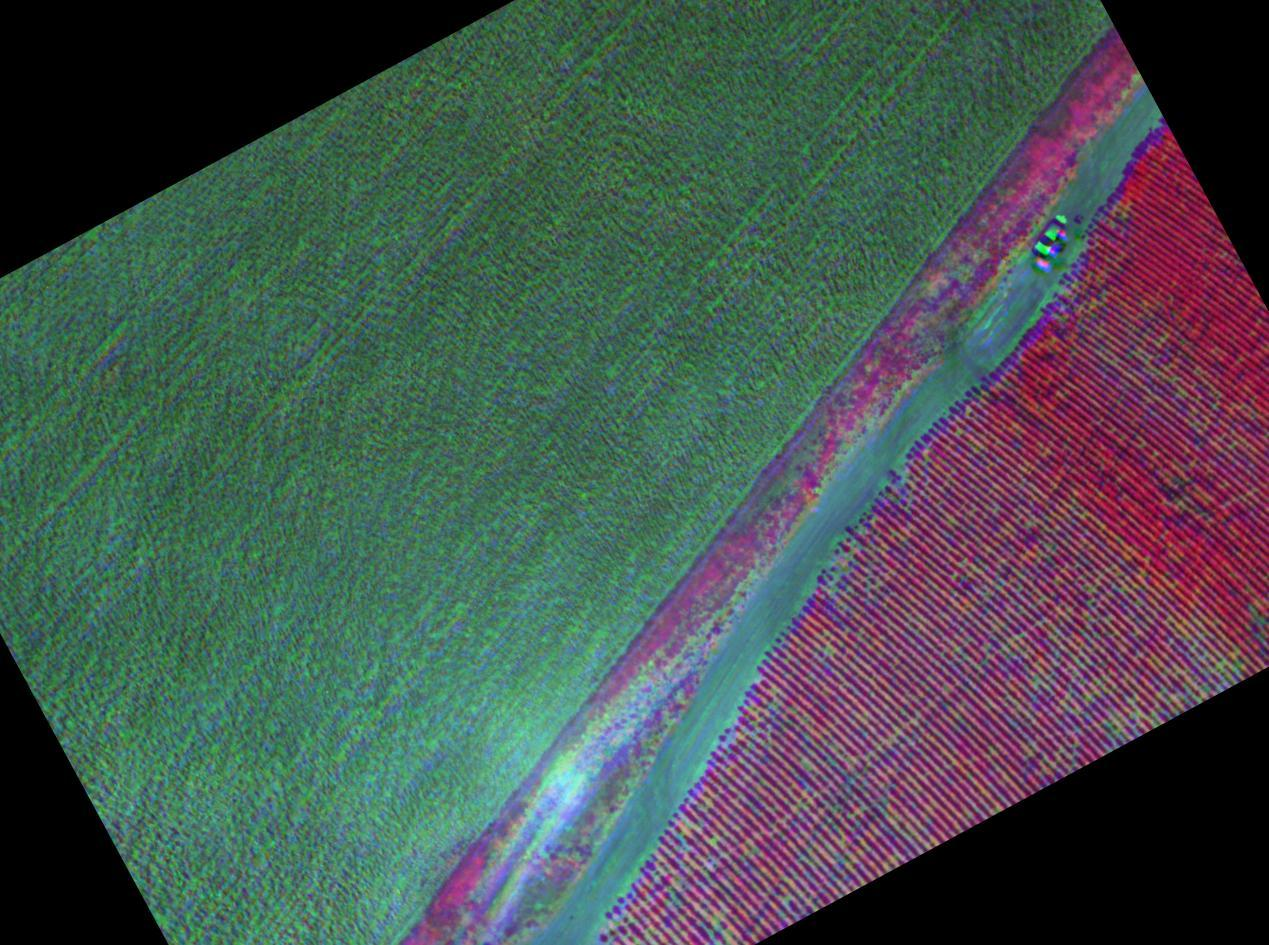dc: (999, 462, 1082, 528), (1049, 645, 1107, 709), (687, 883, 741, 945), (828, 548, 880, 608), (1187, 625, 1243, 680), (726, 710, 783, 763), (611, 906, 665, 945)
